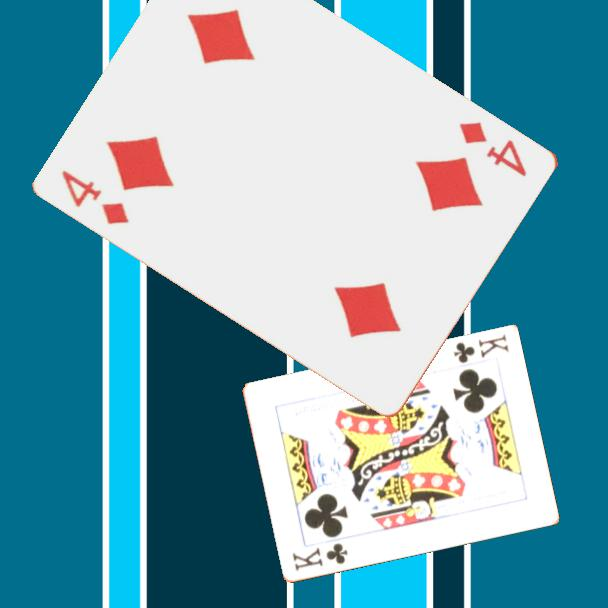c13: (450, 331, 511, 367), (289, 540, 350, 575)
d04: (456, 118, 531, 180), (59, 166, 133, 228)
